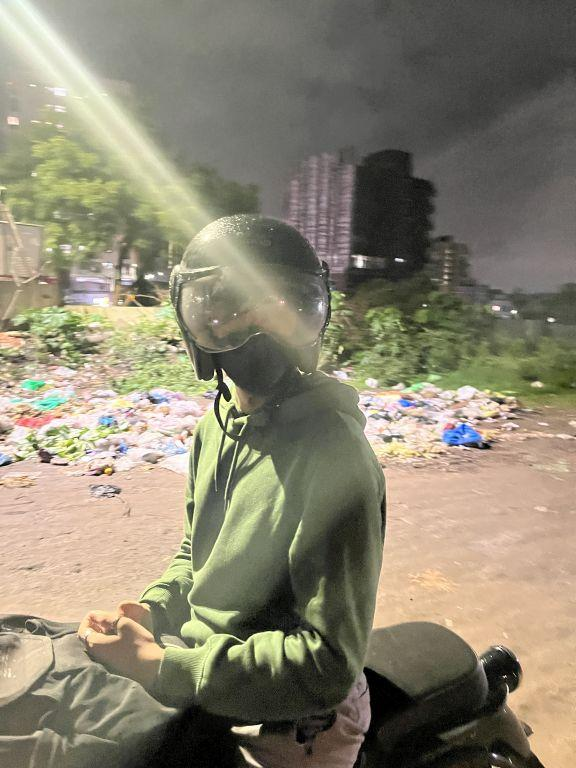helmet: (159, 202, 345, 402)
